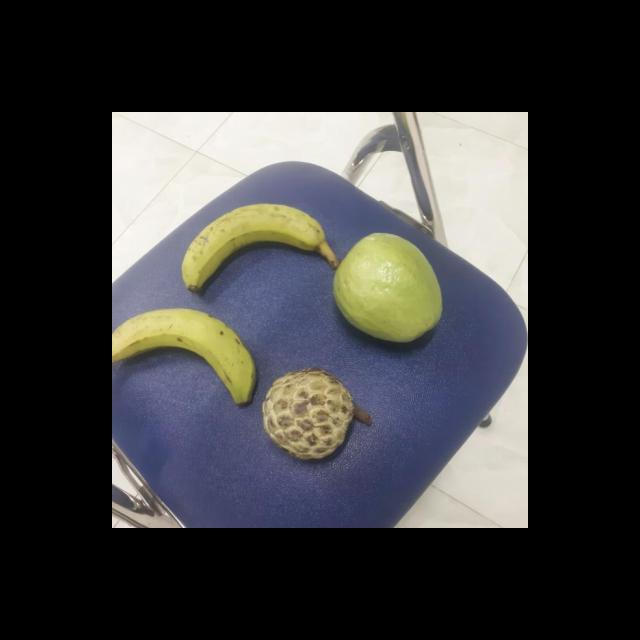Sakya fruit: (265, 367, 363, 464)
banana: (183, 203, 344, 294), (118, 309, 260, 401)
guava: (332, 231, 447, 344)
